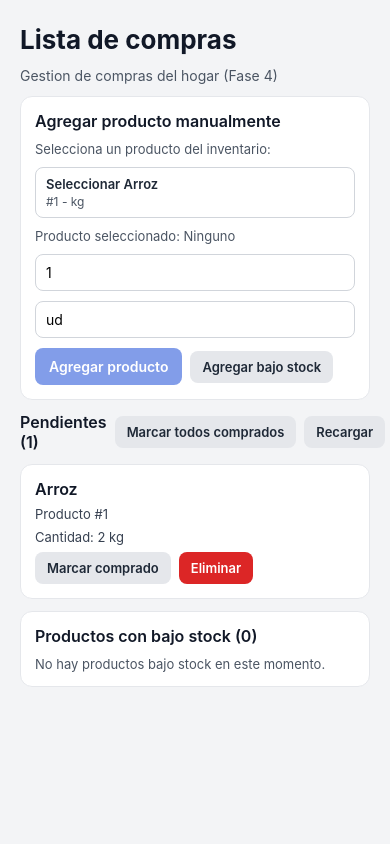
ShoppingListScreen › elimina un item de la lista
The image size is (390, 844).
Check: the text "Arroz" is shown, box [35,479,78,499]
Click the element showing "Eliminar".
click(216, 568)  # box [179,552,253,584]
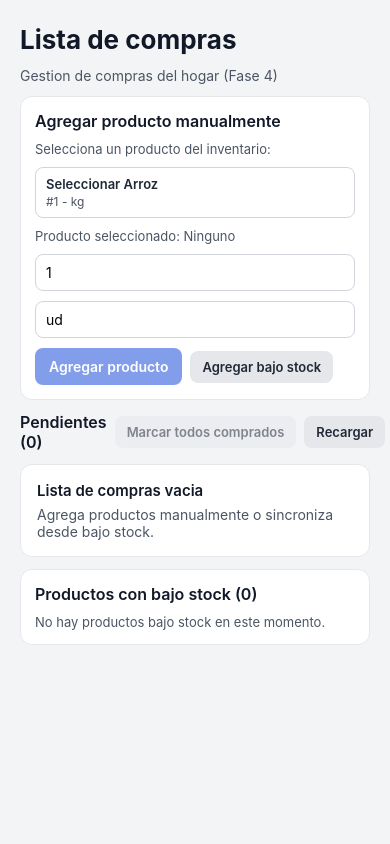
Check: the text "Lista de compras vacia" is shown, box [37,481,203,500]
